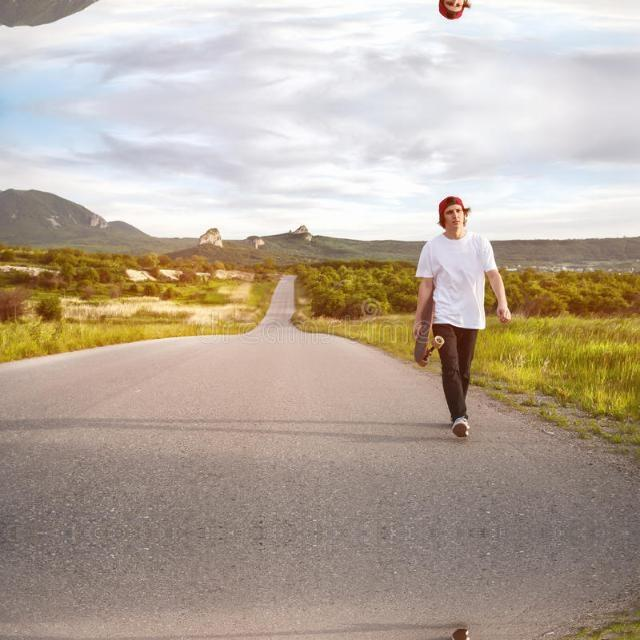person: (414, 186, 512, 452), (414, 0, 511, 28), (414, 613, 511, 640)
